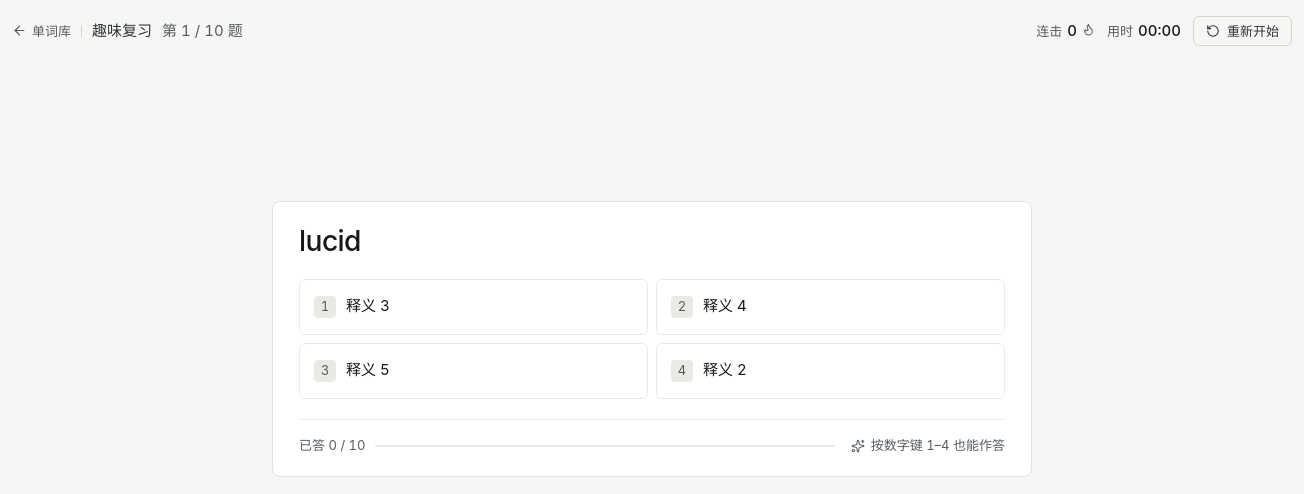
Test: 趣味复习的一局 › 点对答案：立即标绿、记录统计，并在 900ms 后进入下一题
Click the button "4 释义 2" at (725, 370), box top-left (656, 343), bottom-right (1005, 399)
Wait 900 ms
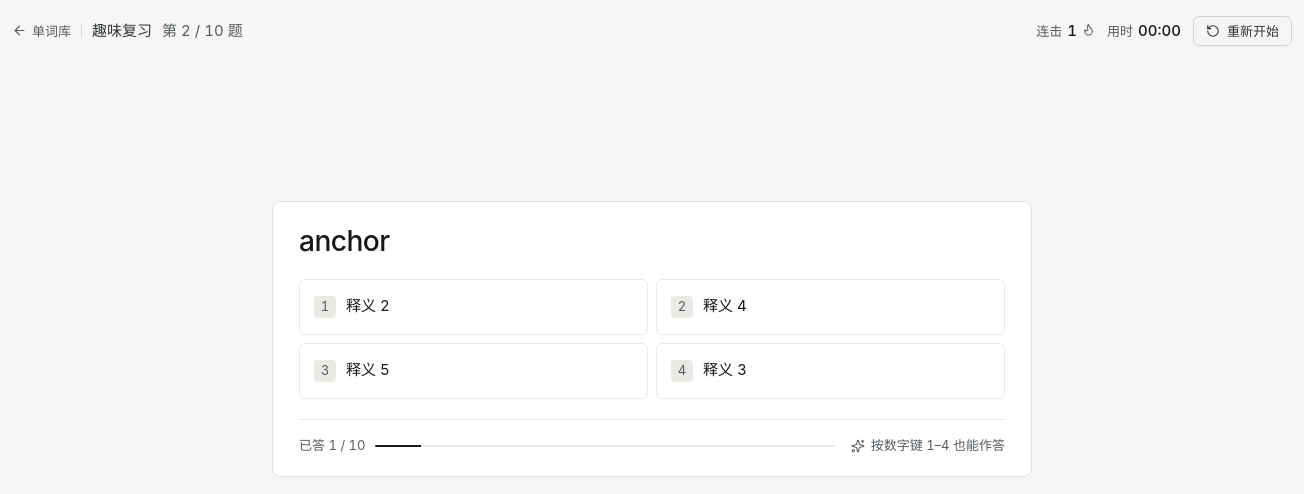
Expected: the text "第 2 / 10 题" is shown, top-left (162, 19), bottom-right (243, 43)
Expected: the text "已答 1 / 10" is shown, top-left (299, 435), bottom-right (366, 456)
